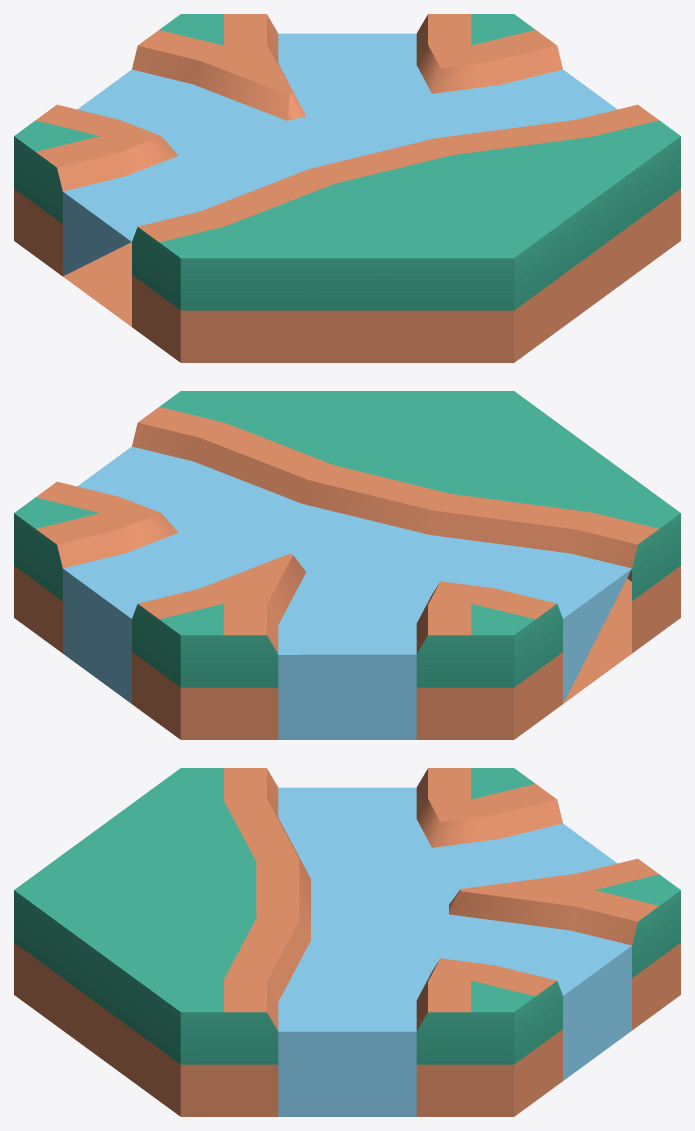
The model's file is river-intersectionH.glb.
3 renders of one model, top to bottom at view 1: azimuth 30°, elevation 25°; view 2: azimuth 150°, elevation 25°; view 3: azimuth 270°, elevation 25°, orthographic.
Visible parts, largest first — view 1: river-intersectionH; view 2: river-intersectionH; view 3: river-intersectionH.
Boxes of the visible parts, x1,y1,x2,y2 form: river-intersectionH: [14, 14, 680, 362]; river-intersectionH: [14, 391, 680, 739]; river-intersectionH: [14, 768, 680, 1116].
Bounding box in the file's own units: 1 × 0.2 × 1.15.
1 material, 1 textured.
